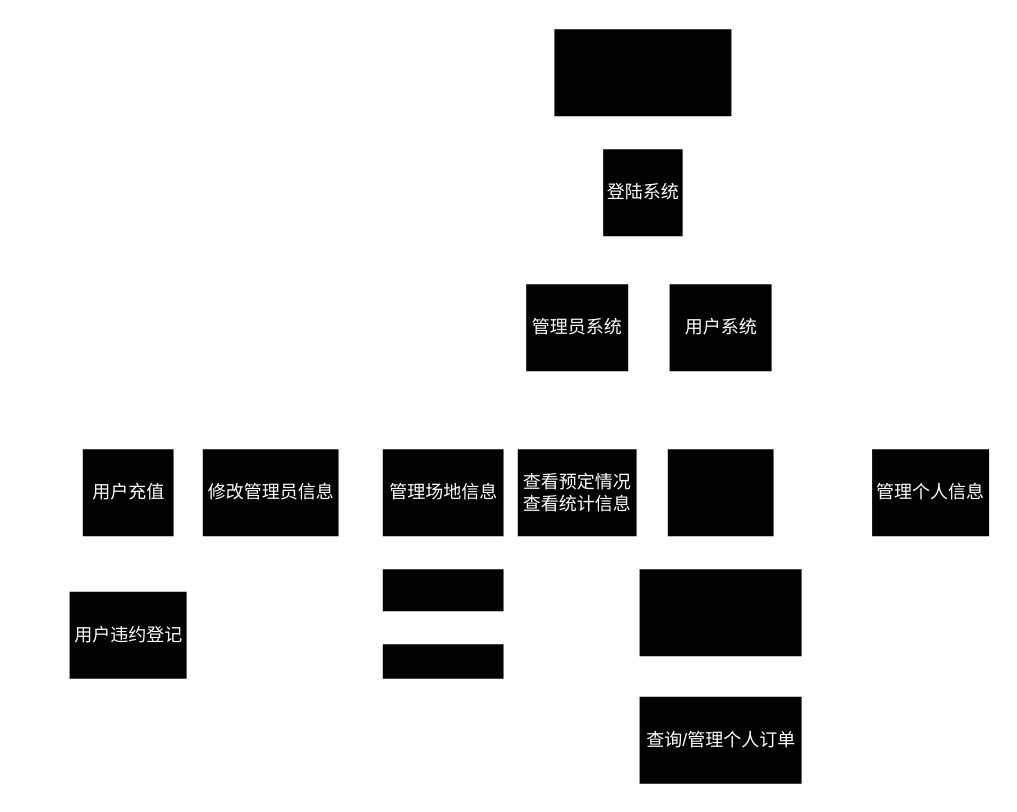
Some shapes in this 1017 by 812 pixel diagram are drawn without their labels. The shapes that lost their labels are listed below. From the top down, each one's centre as x and y in pixels, then its label:
At (x=642, y=72): "综合体育场管理系统".
At (x=720, y=492): "场地查询".
At (x=442, y=590): "修改场地信息".
At (x=720, y=612): "场地预定/取消预定".
At (x=442, y=660): "添加新场地".
